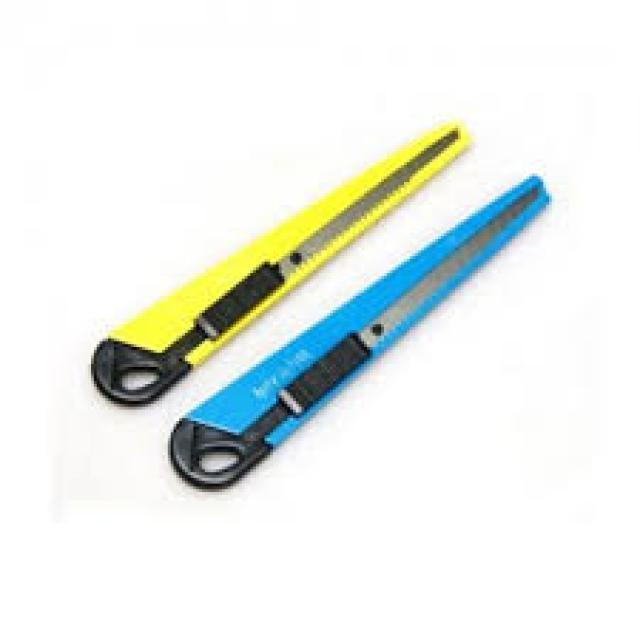cutter: (144, 168, 555, 492), (80, 107, 484, 416)
